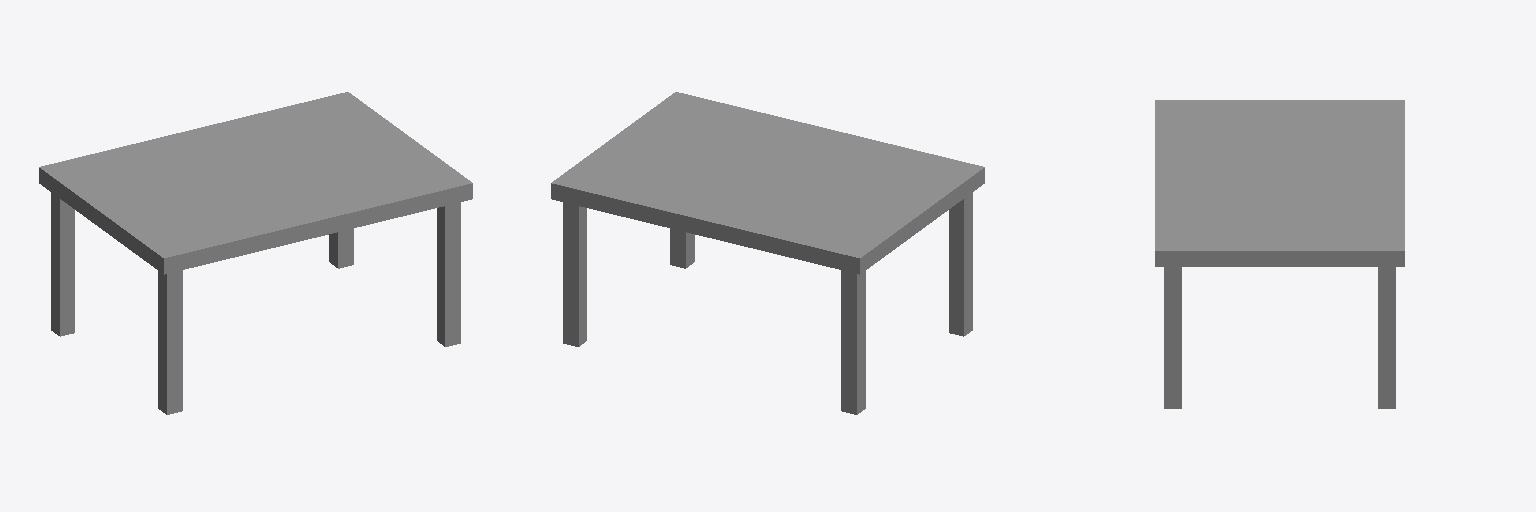
File: desk.obj
3 renders of one model, left to right at view 1: azimuth 30°, elevation 25°; view 2: azimuth 150°, elevation 25°; view 3: azimuth 270°, elevation 25°, orthographic.
Visible parts, largest first — view 1: Cube_Cube.001; view 2: Cube_Cube.001; view 3: Cube_Cube.001.
Part boxes in pixels (x1,y1,x2,y2): Cube_Cube.001: (39, 92, 472, 414); Cube_Cube.001: (551, 92, 984, 414); Cube_Cube.001: (1155, 100, 1404, 408).
Bounding box in the file's own units: 2 × 1 × 1.4.